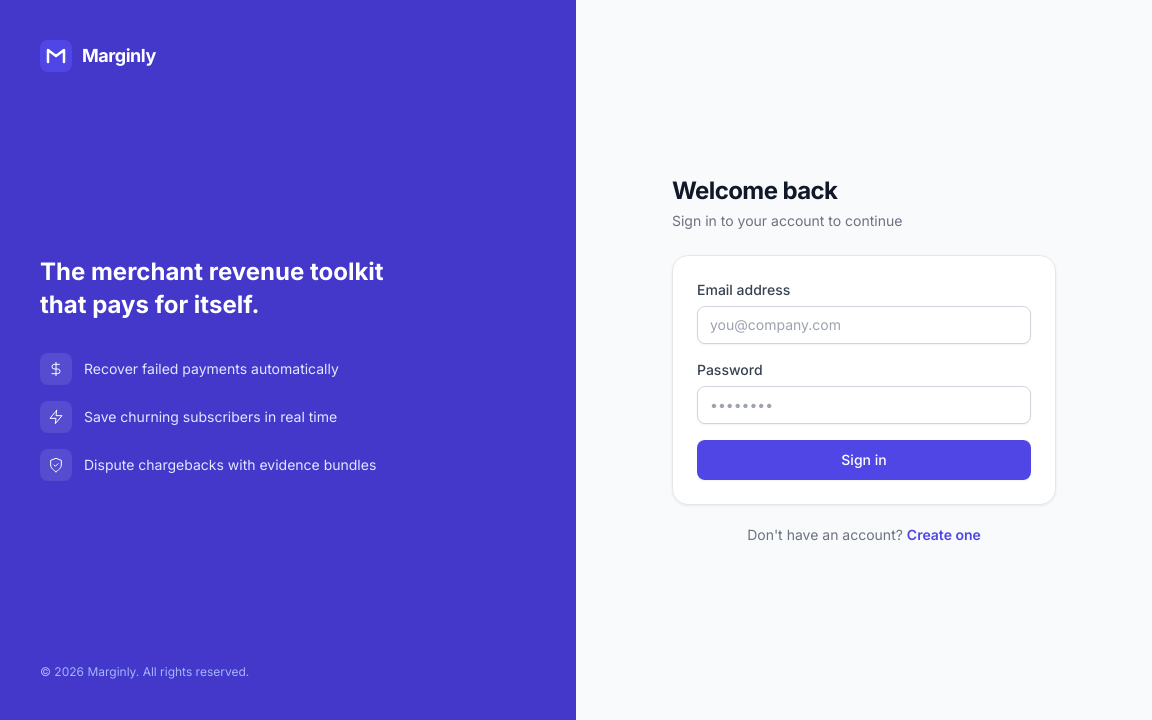
Test: LoginPage › shows server error message on failed login
In the field with placeholder "you@company.com": (864, 325) x1=697 y1=306 x2=1031 y2=344, type "bad@example.com"
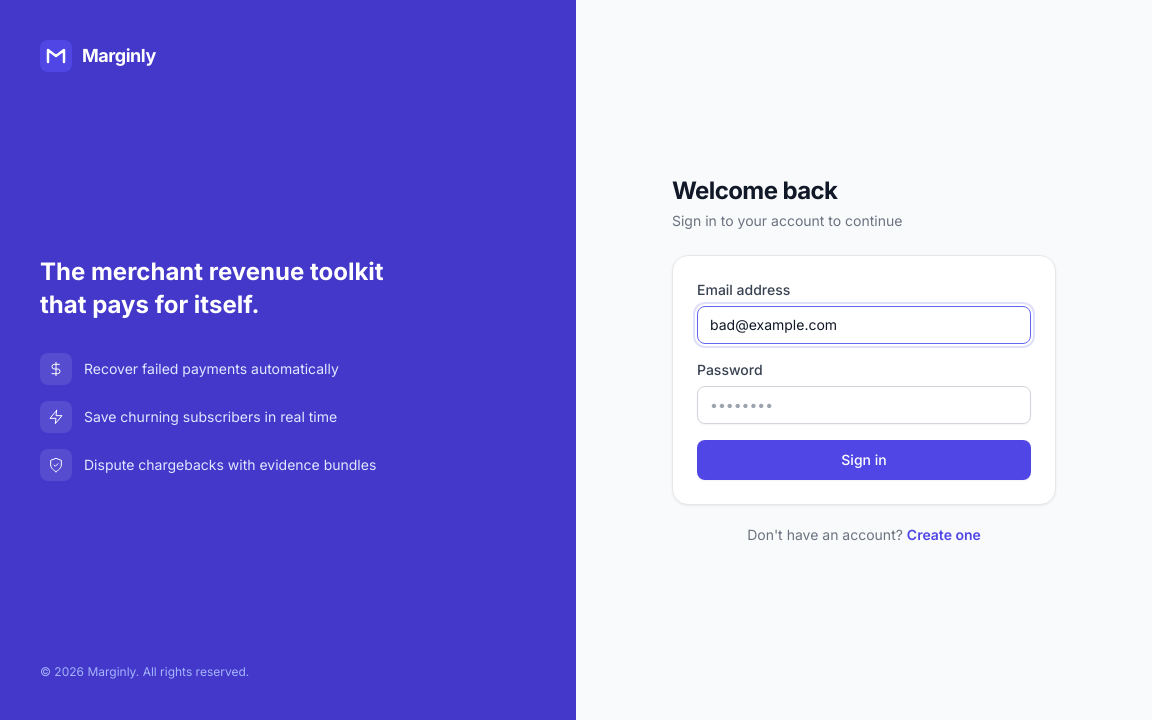
In the password field with placeholder "••••••••": (864, 405) x1=697 y1=386 x2=1031 y2=424, type "wrongpass"
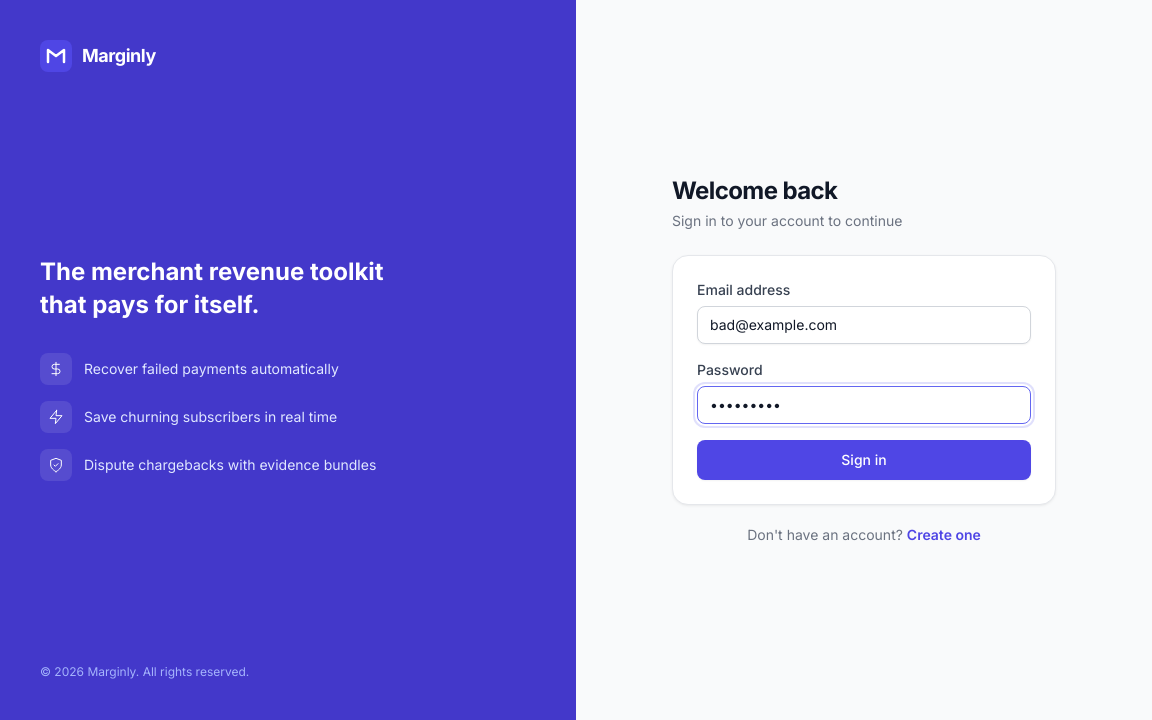
Click the button "Sign in": (864, 460) x1=697 y1=440 x2=1031 y2=480
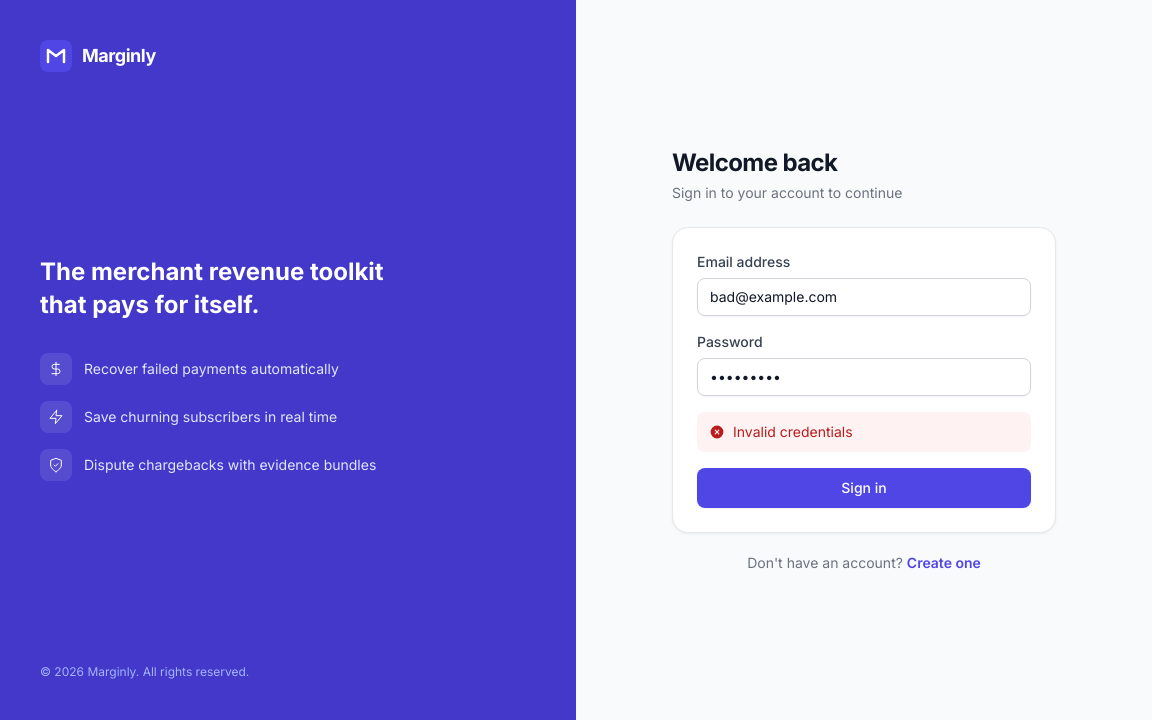
expect the text "Invalid credentials" is shown: met, box x1=697 y1=412 x2=1031 y2=452
